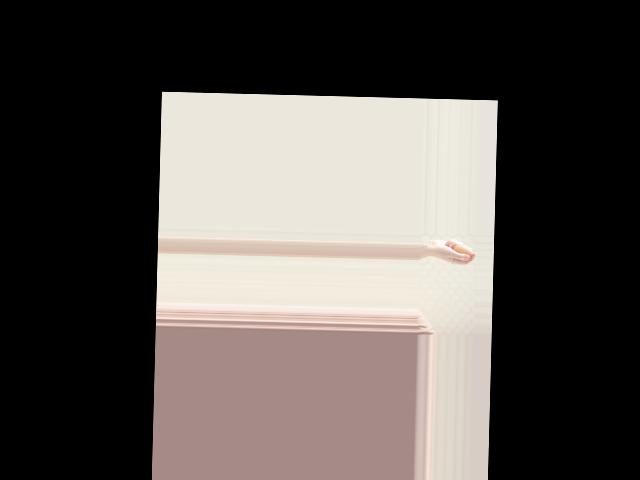egg: (452, 243, 472, 259)
